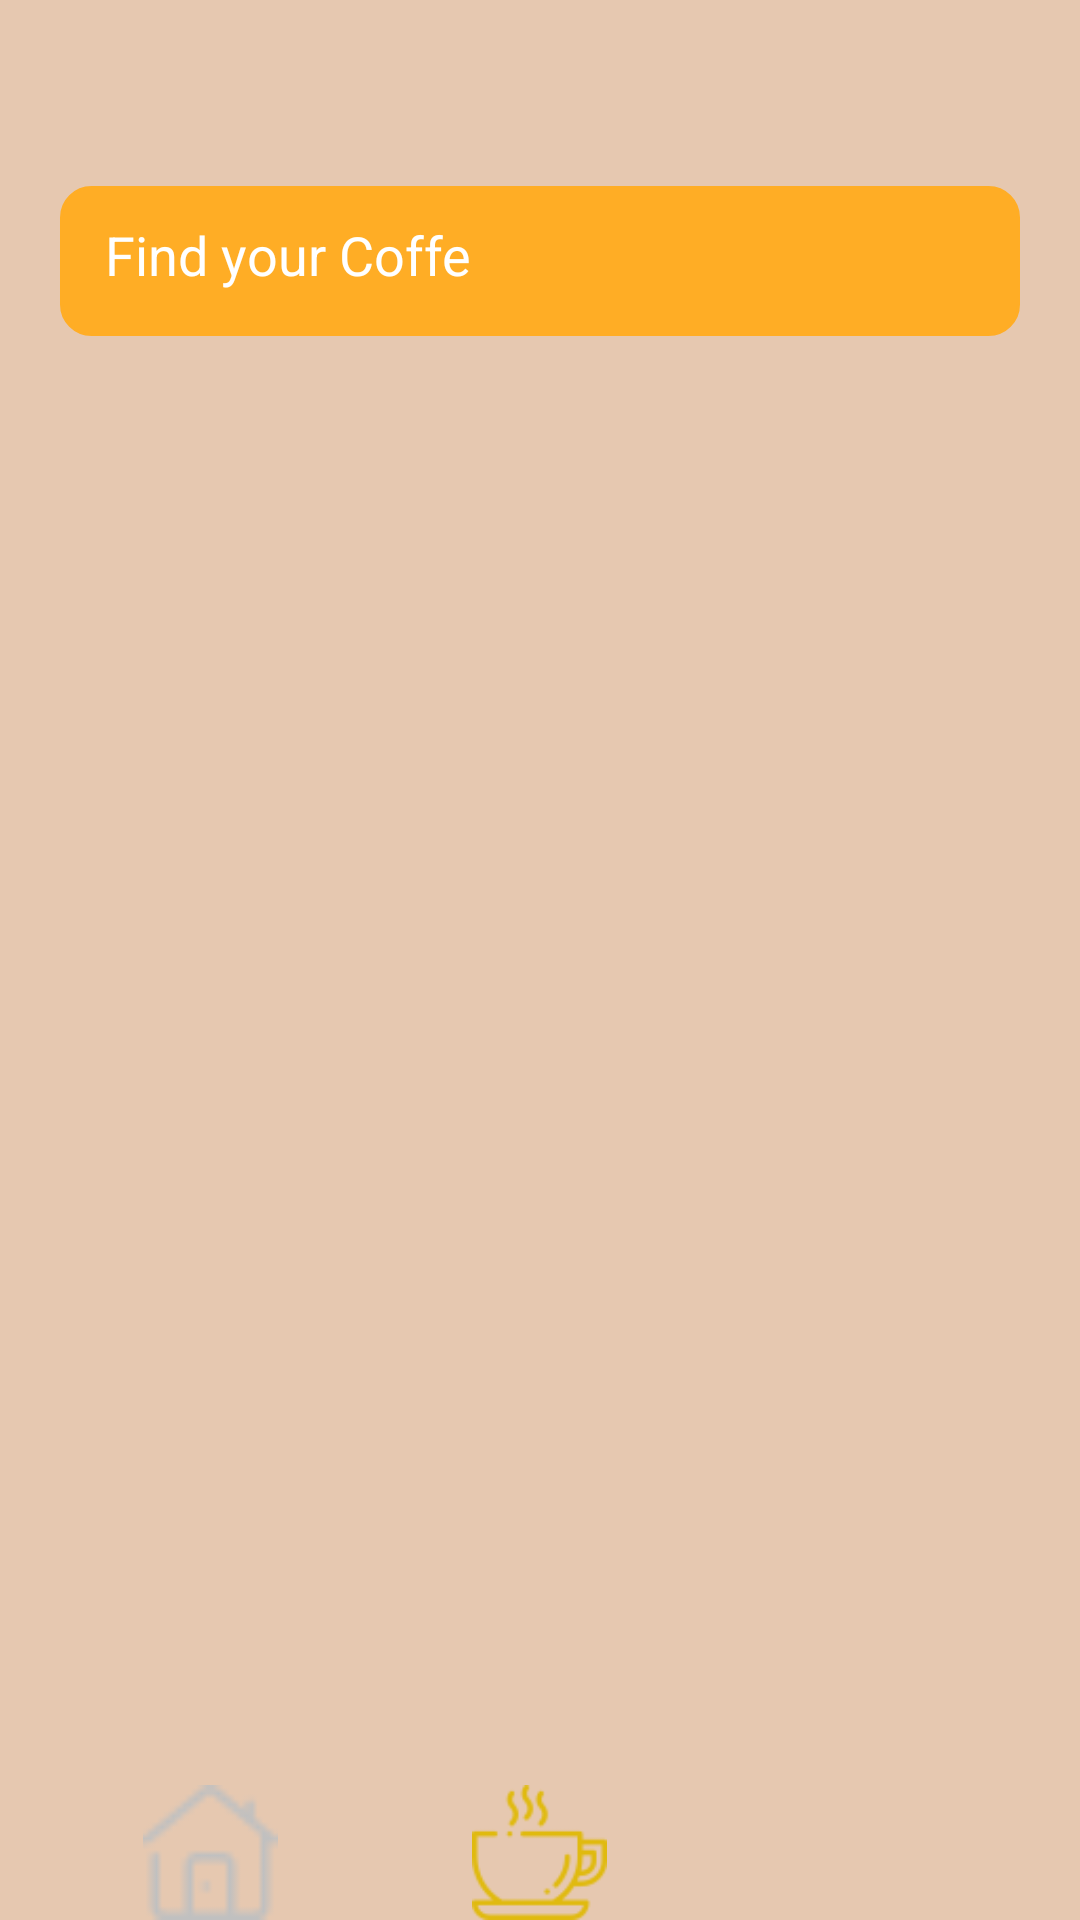

Where icons sit on this 1080*1920 app screen, as (x1, y1, x2, y2):
coffee cup: (472, 1785, 607, 1920)
